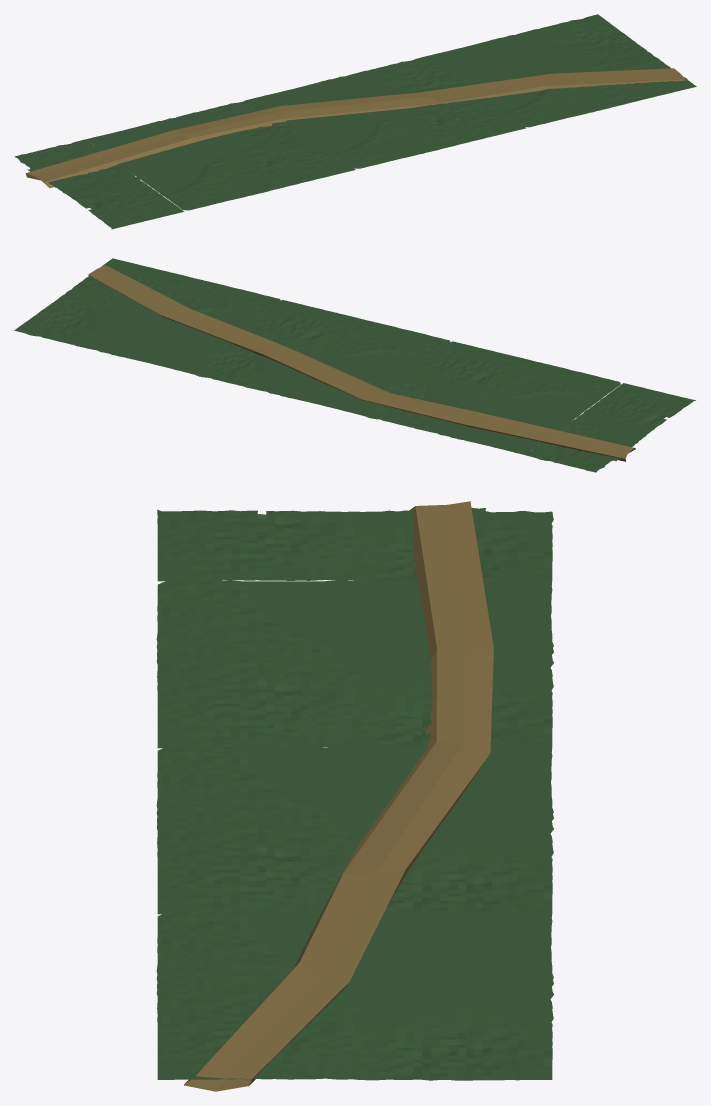
File: athili_copse_section22.glb
3 views of the same model, one above another, from view 1: azimuth 30°, elevation 25°; view 2: azimuth 150°, elevation 25°; view 3: azimuth 270°, elevation 25° (orthographic). The views are drawn at different scales.
Visible parts, largest first — view 1: Grass.002, Grass.004, Grass.003, Road.001, Grass.005; view 2: Grass.004, Grass.002, Grass.003, Road.001, Grass.005; view 3: Grass.002, Grass.004, Grass.003, Road.001, Grass.005.
Part boxes in pixels (<box>): Grass.002: <box>427,14,696,127</box>; Grass.004: <box>86,98,355,210</box>; Grass.003: <box>256,56,526,168</box>; Road.001: <box>25,68,687,188</box>; Grass.005: <box>14,139,184,229</box>; Grass.004: <box>354,341,620,454</box>; Grass.002: <box>14,258,281,371</box>; Grass.003: <box>184,300,450,413</box>; Road.001: <box>88,265,635,461</box>; Grass.005: <box>525,383,695,472</box>; Grass.002: <box>156,911,553,1080</box>; Grass.004: <box>156,579,553,748</box>; Grass.003: <box>156,745,553,914</box>; Road.001: <box>184,501,493,1091</box>; Grass.005: <box>157,507,553,581</box>.
Size of the model in its own units: 206 by 2.35 by 59.59.
